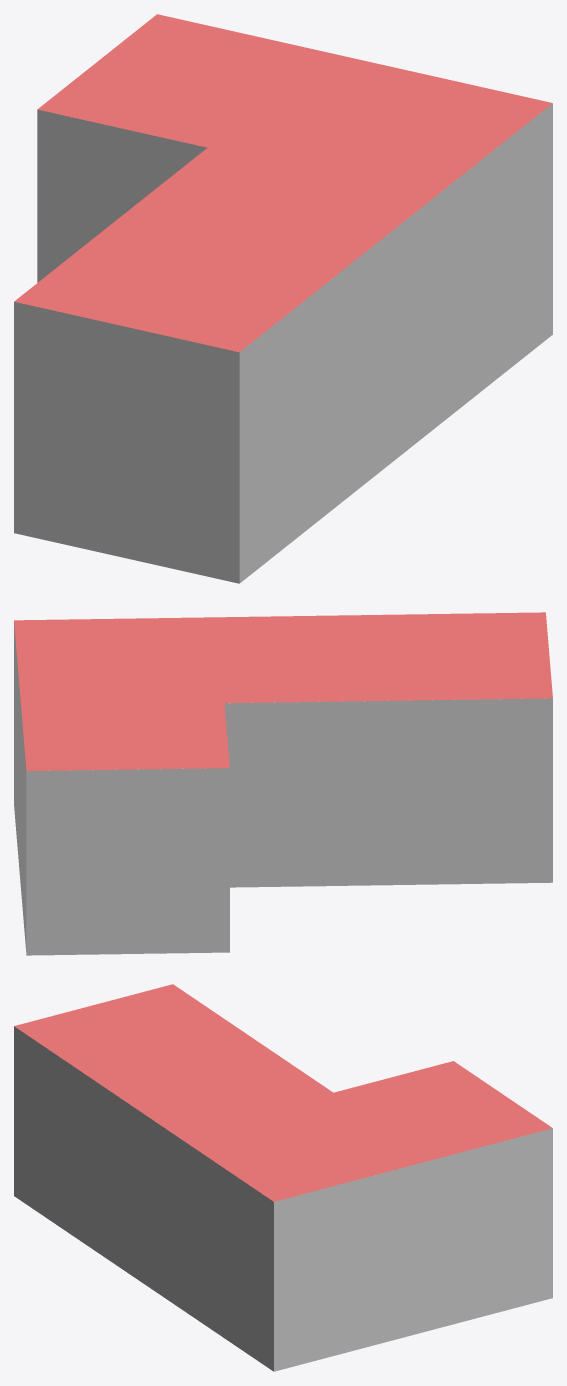
The model's file is ID_e02a2b69-23a5-46a1-bcae-bbb1b15e6f0a.gltf.
3 renders of one model, top to bottom at view 1: azimuth 30°, elevation 25°; view 2: azimuth 150°, elevation 25°; view 3: azimuth 270°, elevation 25°, orthographic. The views are drawn at different scales.
Parts seen in each view (by area): view 1: Z_UP; view 2: Z_UP; view 3: Z_UP.
Boxes of the visible parts, x1,y1,x2,y2 form: Z_UP: (14, 14, 552, 583); Z_UP: (14, 612, 552, 955); Z_UP: (14, 984, 552, 1371).
Bounding box in the file's own units: 35.72 × 13 × 37.37.
